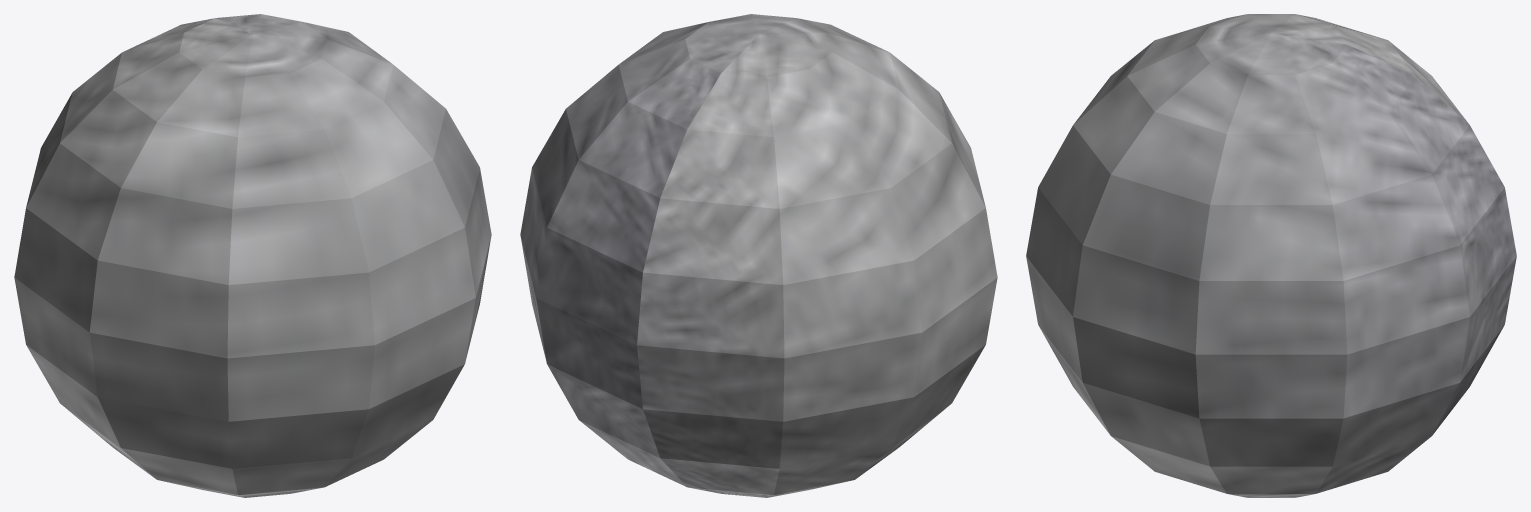
File: bullet.obj
The picture shows the model from 3 angles, left to right: view 1: azimuth 30°, elevation 25°; view 2: azimuth 150°, elevation 25°; view 3: azimuth 270°, elevation 25°; orthographic projection.
Visible parts, largest first — view 1: Sphere; view 2: Sphere; view 3: Sphere.
Part boxes in pixels (<box>): Sphere: <box>14,14,491,497</box>; Sphere: <box>520,14,997,497</box>; Sphere: <box>1026,14,1516,497</box>.
Size of the model in its own units: 1.9 by 2 by 2.
1 material, 1 textured.
